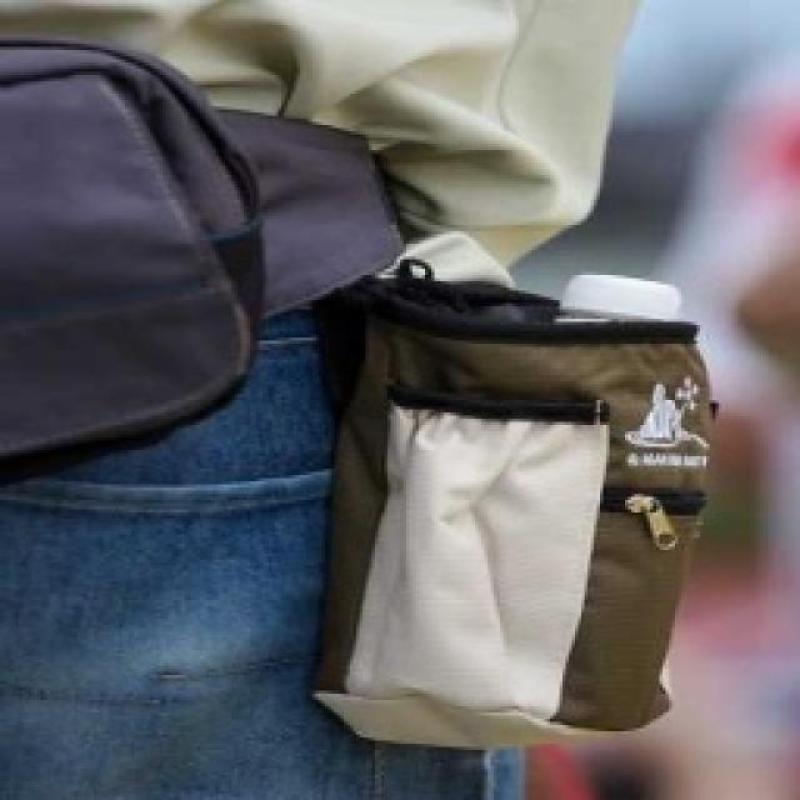botella: (556, 272, 682, 322)
